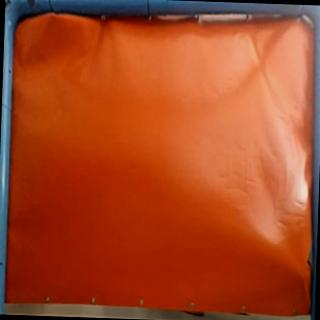Hit-hRxx: (294, 270, 313, 288)
